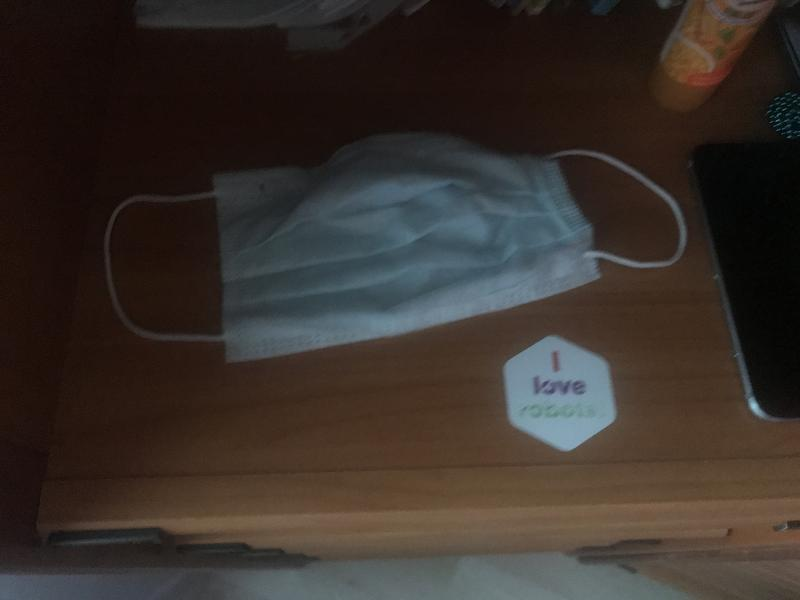medical_mask: (103, 134, 688, 345)
